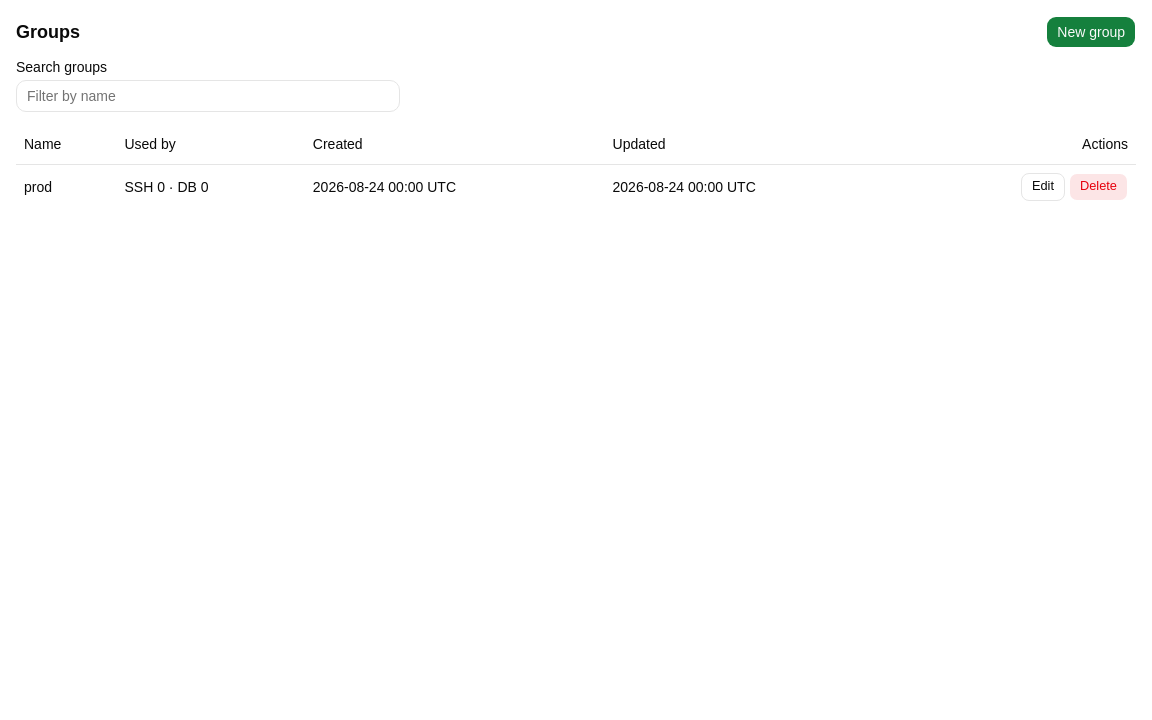
Test case: GroupsTab › renames a group with the current name prefilled
Click the button with aria-label "Edit prod".
click(1043, 186)  # box [1021,172,1065,200]
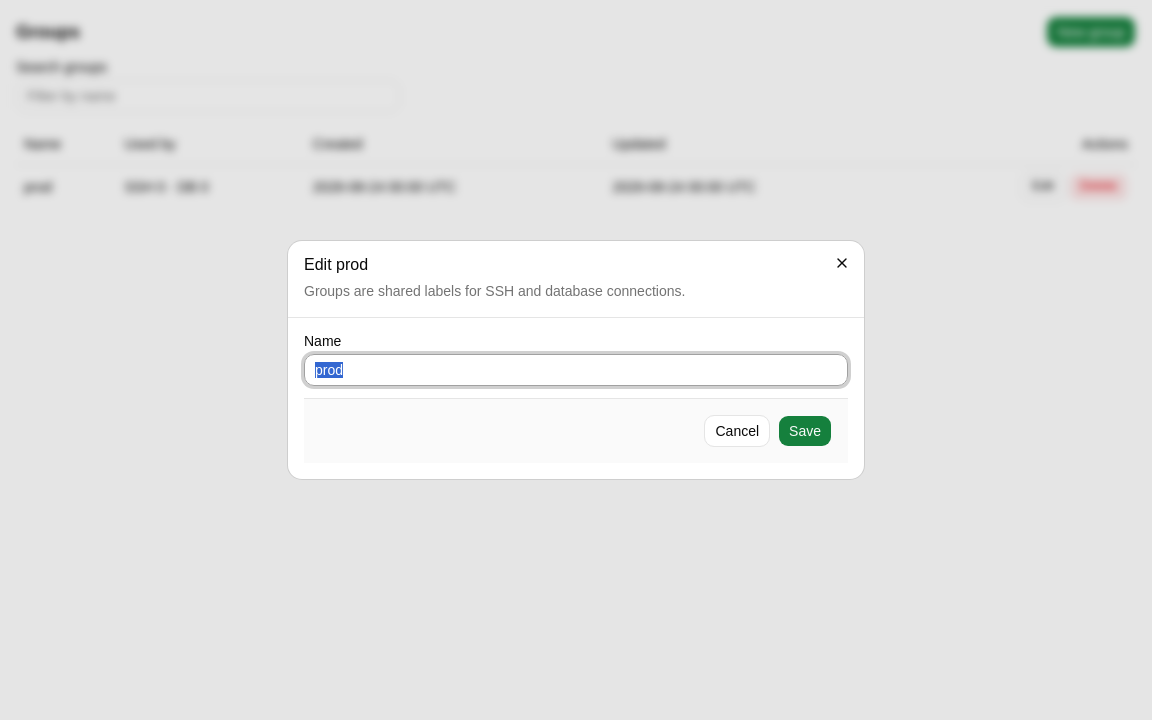
Now the field labelled "Name" holds "prod"
Replace the text in the field labelled "Name" with "production" at (576, 370), box [304,354,848,386]
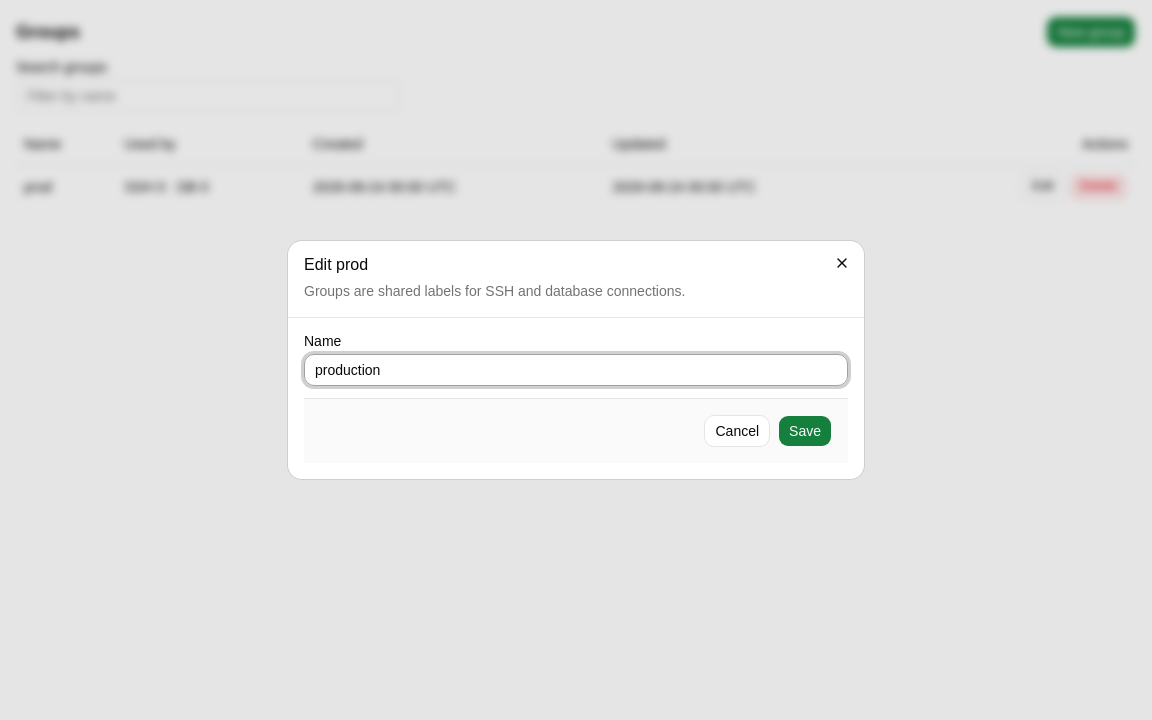
Click the button "Save".
click(805, 431)  # box [778,415,832,447]
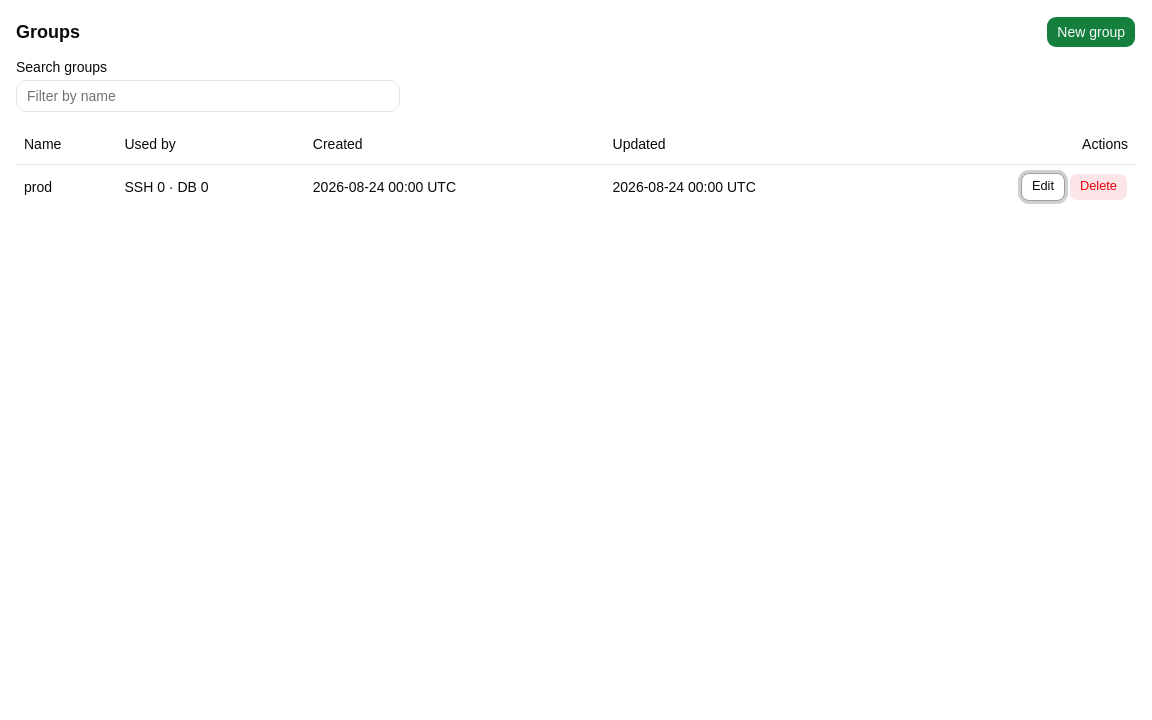
Now the dialog is gone
